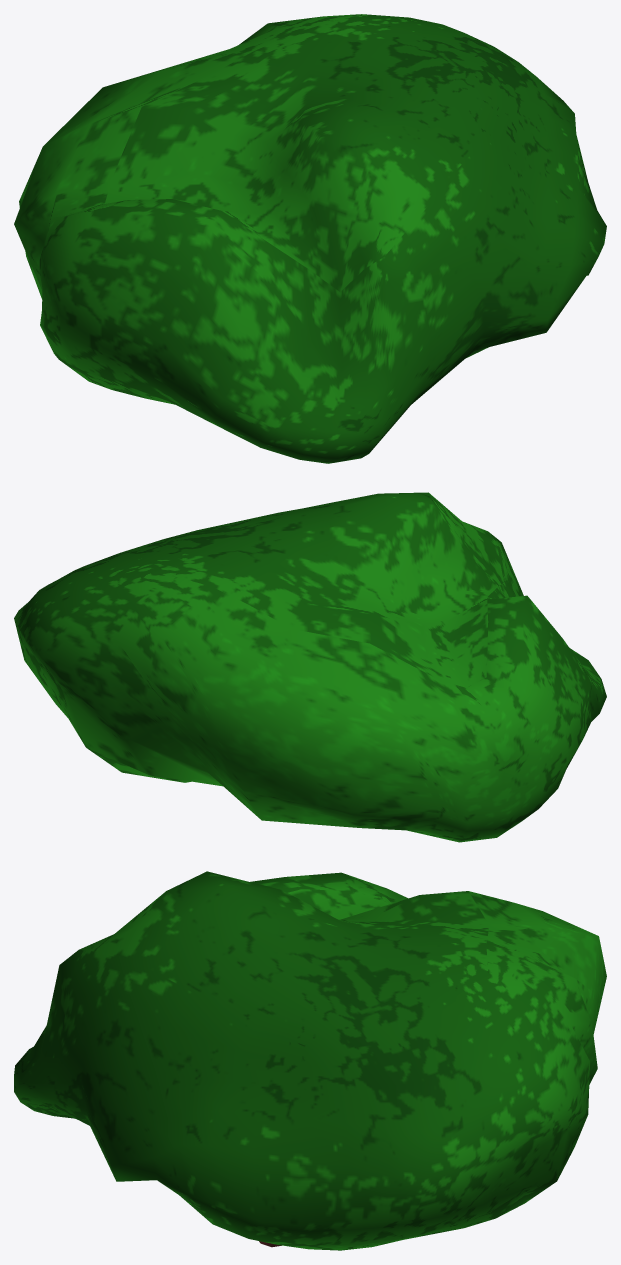
The model's file is bush1.glb.
3 views of the same model, one above another, from view 1: azimuth 30°, elevation 25°; view 2: azimuth 150°, elevation 25°; view 3: azimuth 270°, elevation 25° (orthographic). The views are drawn at different scales.
Visible parts, largest first — view 1: Bush 1; view 2: Bush 1; view 3: Bush 1.
Boxes of the visible parts, <box> form: Bush 1: <box>14,14,606,463</box>; Bush 1: <box>14,492,606,842</box>; Bush 1: <box>14,871,606,1250</box>.
Bounding box in the file's own units: 2.24 × 1.13 × 1.99.
2 materials, 1 textured.
